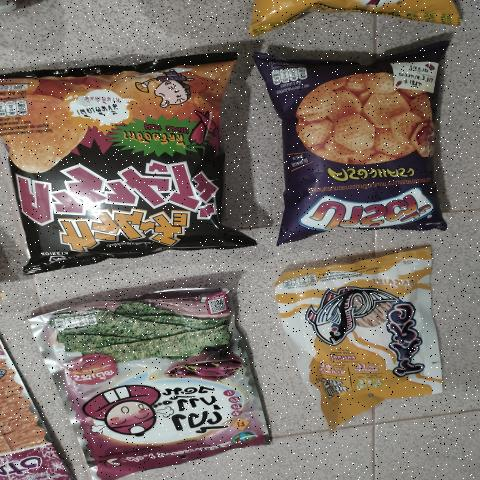karamujo: (24, 61, 238, 267)
party_purple: (285, 59, 445, 236)
taokaenoi: (85, 305, 243, 473)
taro_yellow: (301, 250, 433, 420)
